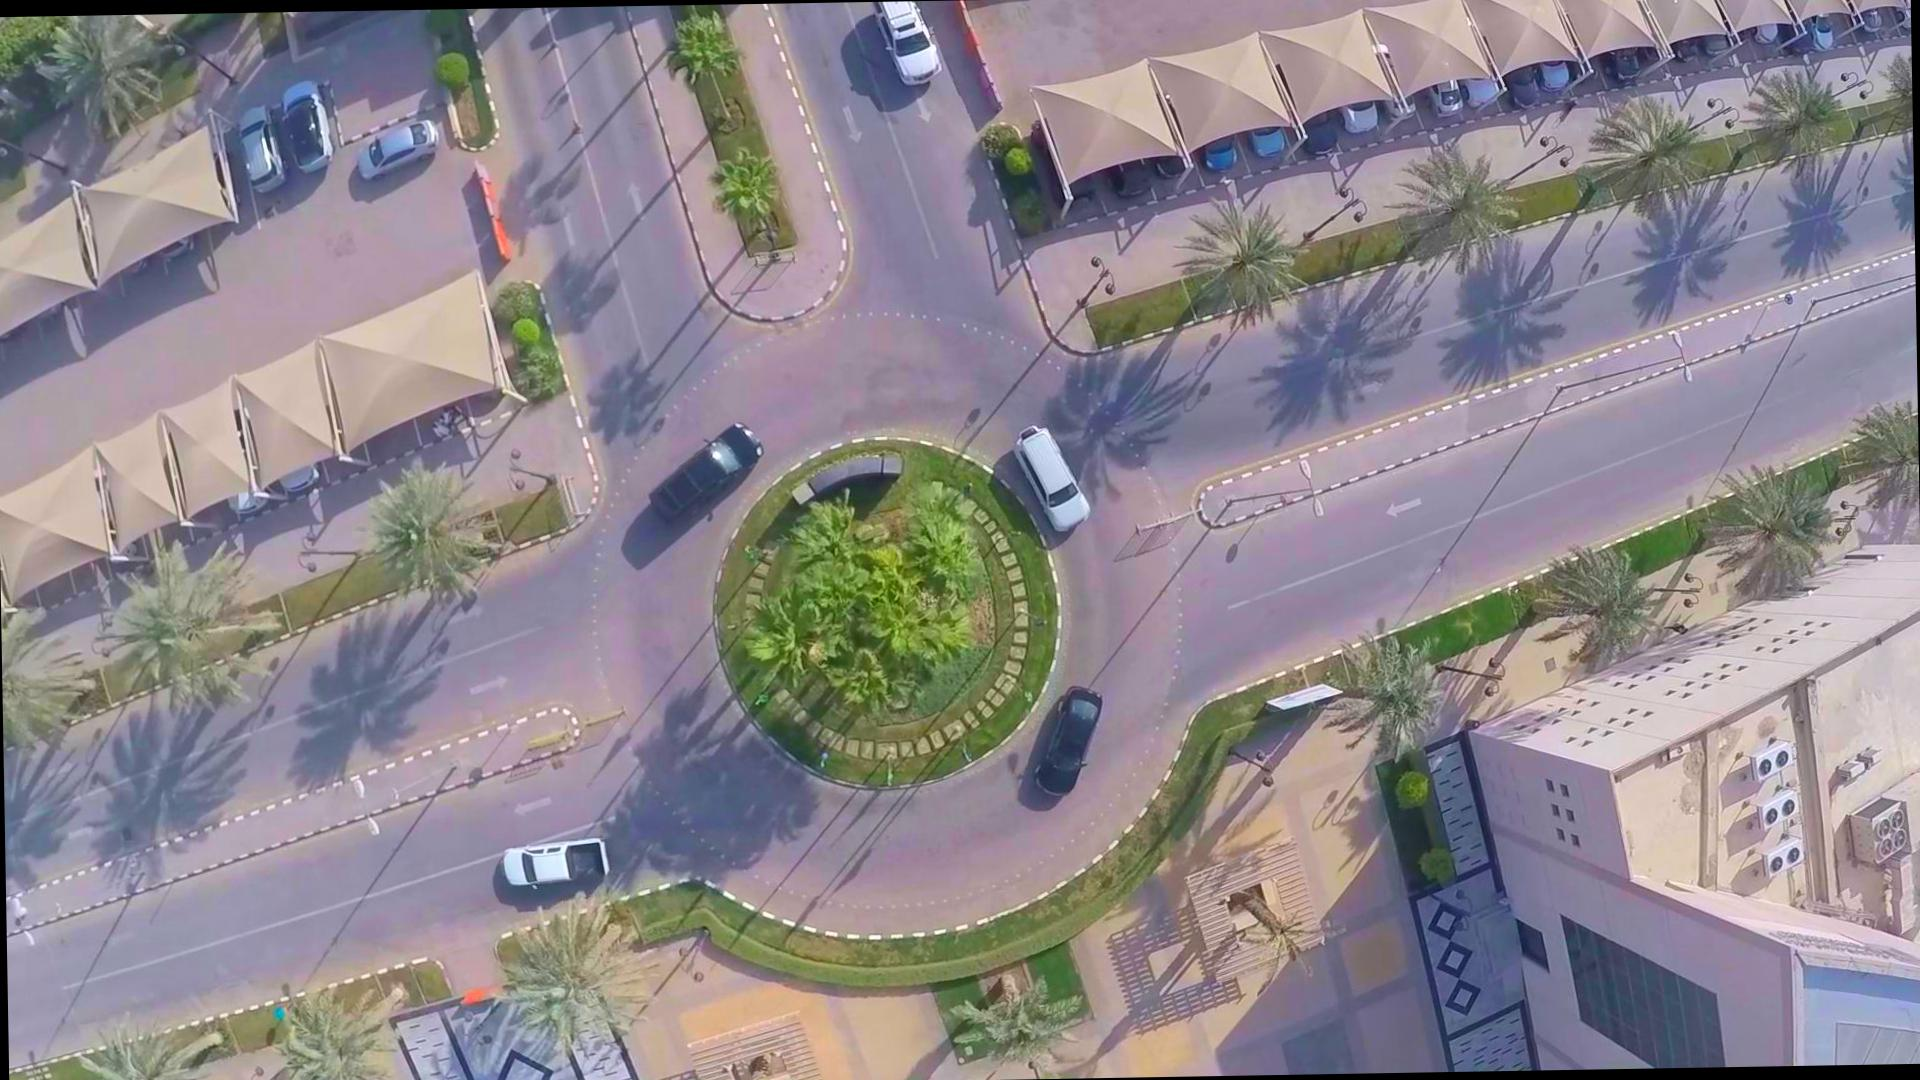vehicle: (636, 418, 748, 526), (1004, 422, 1098, 541), (1019, 686, 1110, 808), (497, 822, 622, 897)
